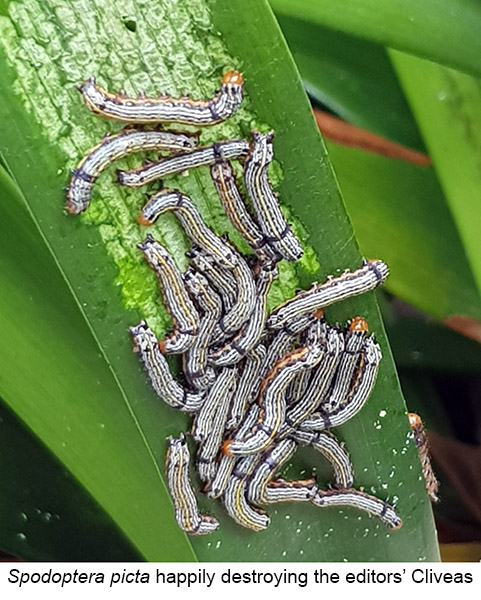Armyworm: (49, 111, 202, 233), (75, 56, 243, 142), (276, 243, 391, 336), (116, 305, 198, 417), (206, 159, 289, 268), (154, 429, 214, 546), (309, 488, 405, 539)
